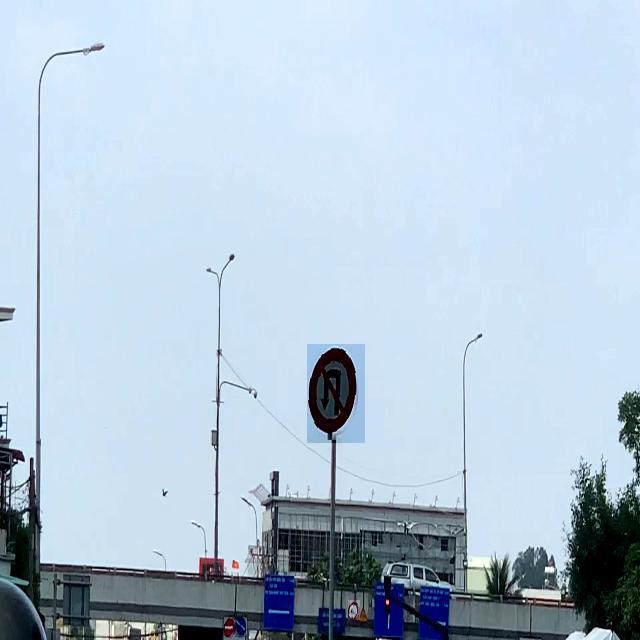P-102: (224, 618, 235, 638)
P-117: (348, 601, 360, 621)
P-124a: (307, 344, 365, 443)
R-302a: (235, 618, 246, 638)
